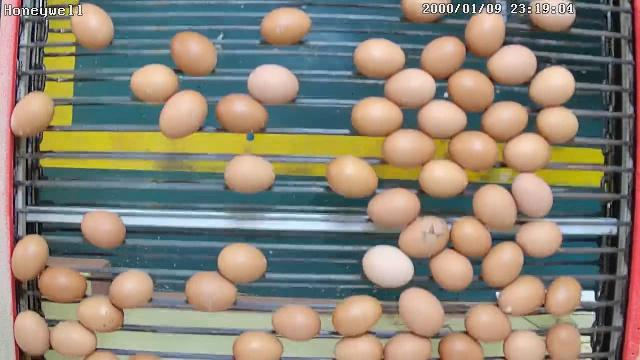egg: (158, 88, 210, 140), (325, 154, 379, 202), (366, 186, 422, 232), (382, 66, 437, 112), (398, 212, 450, 260), (396, 286, 444, 338), (362, 244, 416, 290), (8, 88, 55, 140), (247, 62, 300, 108), (381, 125, 437, 168), (184, 270, 240, 313), (215, 91, 268, 136), (70, 3, 116, 54), (216, 241, 268, 286), (448, 128, 500, 173), (330, 293, 383, 337), (353, 37, 407, 80), (170, 30, 218, 78), (472, 182, 519, 231), (419, 155, 469, 201), (486, 42, 538, 86), (258, 7, 312, 49), (350, 95, 404, 137), (446, 66, 494, 113), (427, 246, 475, 293), (499, 271, 546, 319), (528, 63, 576, 110), (416, 96, 469, 138), (464, 300, 512, 345), (130, 62, 180, 105), (514, 216, 565, 258), (502, 131, 553, 173), (8, 232, 49, 284), (224, 154, 276, 195), (418, 36, 466, 80), (511, 170, 555, 218), (76, 292, 126, 334), (482, 240, 524, 290), (463, 7, 505, 57), (272, 300, 321, 342), (37, 264, 88, 304), (80, 207, 126, 251), (108, 268, 156, 310), (50, 317, 98, 359), (450, 214, 492, 260), (482, 99, 528, 140), (536, 104, 579, 146), (544, 274, 585, 318), (13, 310, 52, 356), (496, 328, 550, 360), (232, 328, 284, 360), (546, 321, 583, 360)
